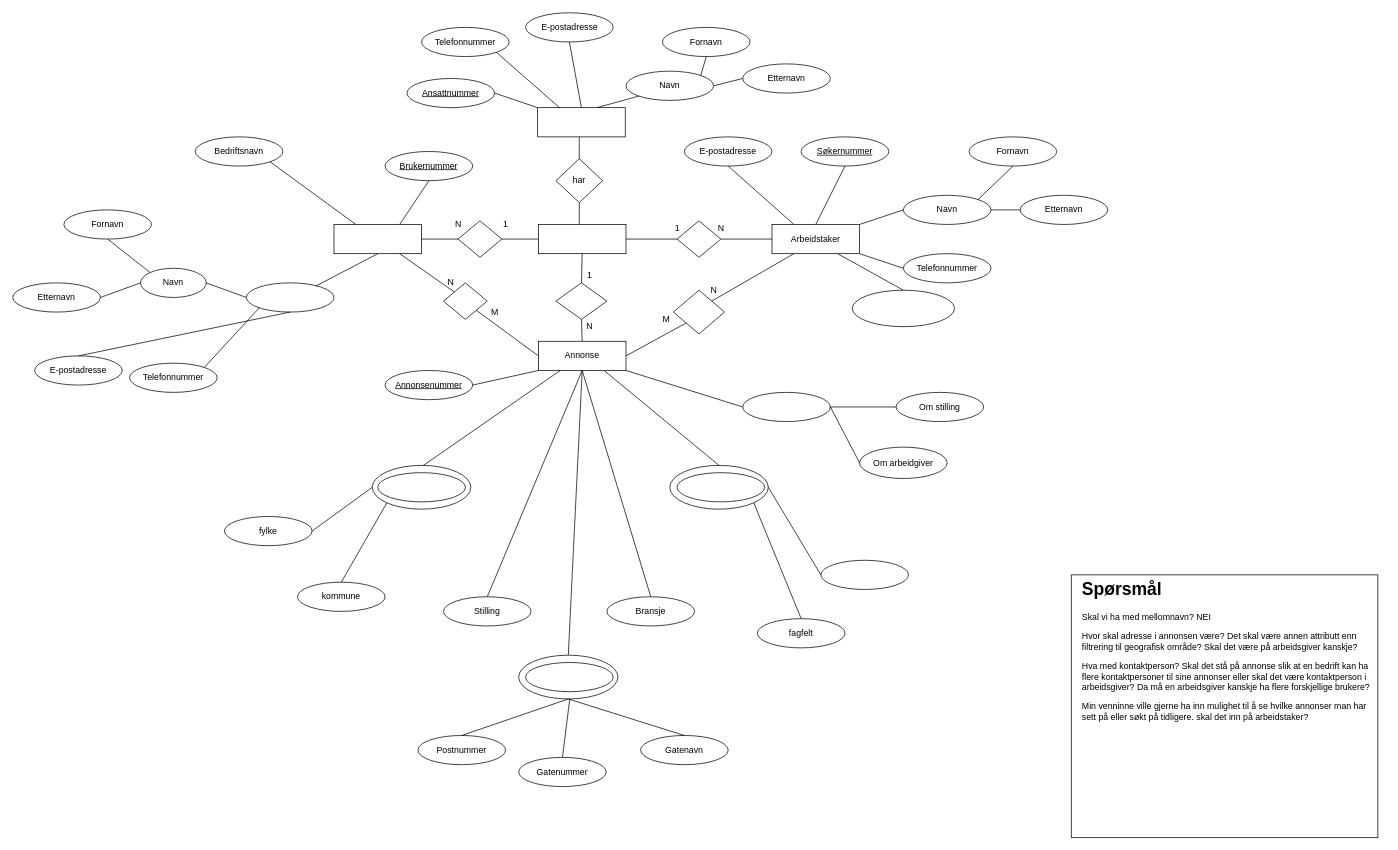
This 1398x850 diagram has some shape labels left out. The box of each missing label's shape, as (x1, y1, x2, y2) in pixels:
administrator: (537, 107, 625, 137)
Adresse: (525, 662, 613, 692)
Annonsetekst: (742, 392, 830, 422)
Arbeidsgiver: (333, 224, 422, 254)
arkiv/hjerte/abonnement: (852, 289, 954, 327)
bruker: (457, 220, 502, 257)
geografisk område: (377, 472, 465, 502)
inneholder: (555, 282, 607, 319)
Kontaktperson: (246, 282, 334, 312)
legger ut: (443, 282, 487, 319)
nivå: (820, 560, 908, 589)
Nyutdanna.no: (538, 224, 626, 254)
ser på: (676, 220, 721, 257)
søker på: (673, 289, 725, 334)
Utdanningskrav: (676, 472, 765, 502)
